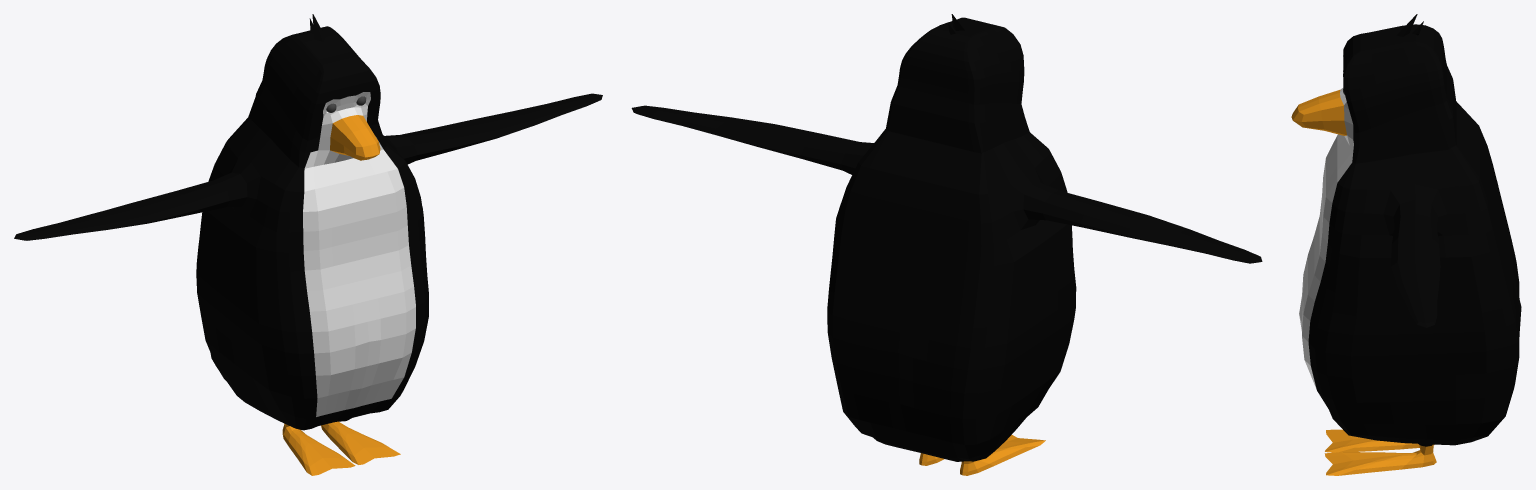
File: Krico_no_skelet.fbx
3 views of the same model, side by side, from view 1: azimuth 30°, elevation 25°; view 2: azimuth 150°, elevation 25°; view 3: azimuth 270°, elevation 25° (orthographic). The views are drawn at different scales.
Parts seen in each view (by area): view 1: Куб; view 2: Куб; view 3: Куб.
Boxes of the visible parts, box(x1,y1,x2,y2) form: Куб: box(14, 14, 602, 475); Куб: box(631, 14, 1262, 475); Куб: box(1291, 14, 1521, 475).
Bounding box in the file's own units: 1289 × 882 × 417.
